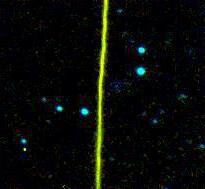star: (9, 133, 39, 163)
